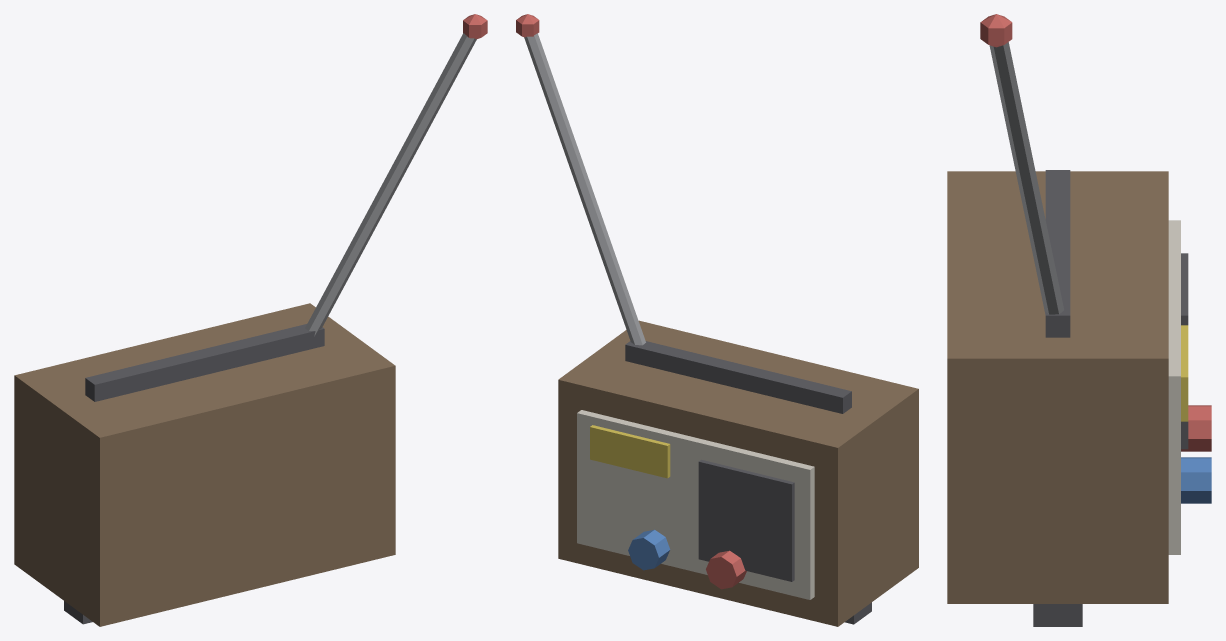
Rendered from elet_radio.glb.
3 renders of one model, left to right at view 1: azimuth 30°, elevation 25°; view 2: azimuth 150°, elevation 25°; view 3: azimuth 270°, elevation 25°, orthographic. The views are drawn at different scales.
Parts seen in each view (by area): view 1: ELET_RADIO_v01; view 2: ELET_RADIO_v01; view 3: ELET_RADIO_v01.
Part boxes in pixels (x1,y1,x2,y2): ELET_RADIO_v01: (14, 14, 487, 626); ELET_RADIO_v01: (516, 14, 918, 626); ELET_RADIO_v01: (947, 14, 1211, 626).
Size of the model in its own units: 0.4912 by 0.615 by 0.215.
